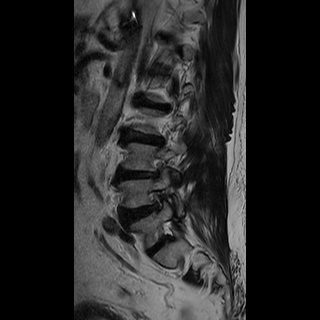LFS3: (143, 185, 172, 217)
